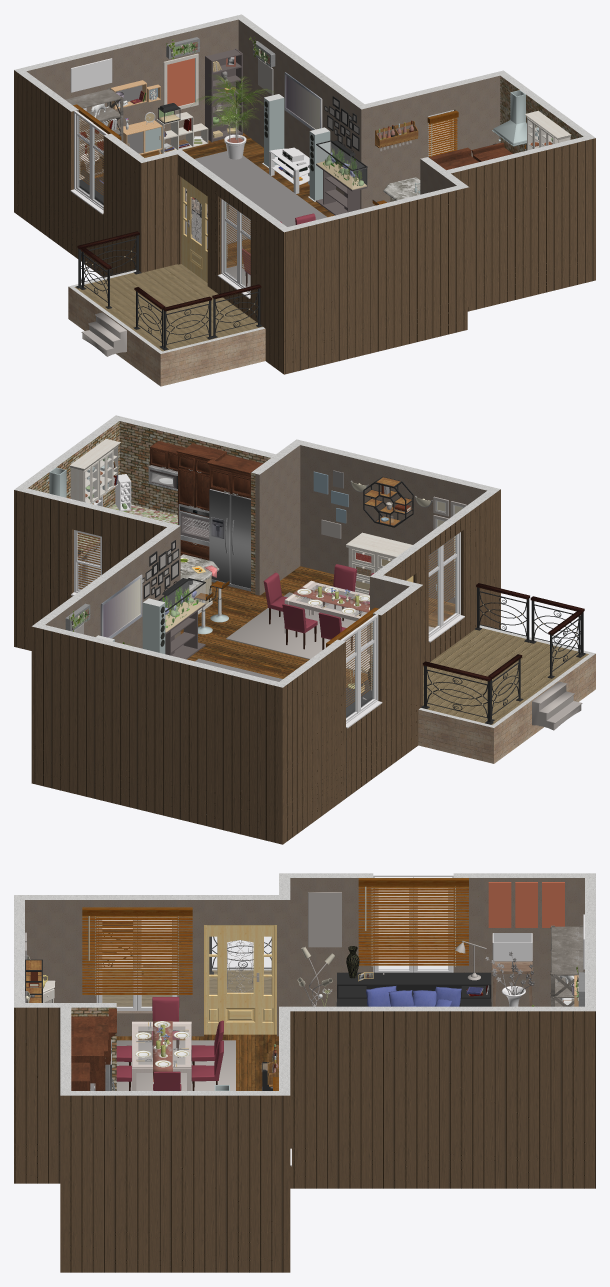
The model's file is living_room_dining_room_kitchen.glb.
3 views of the same model, one above another, from view 1: azimuth 30°, elevation 25°; view 2: azimuth 150°, elevation 25°; view 3: azimuth 270°, elevation 25° (orthographic). The views are drawn at different scales.
Visible parts, largest first — view 1: Object_63, Object_92, Object_62, Object_13, Object_95, Object_39, Object_48, Object_45, Object_36, Object_24, Object_41, Object_75 (+21 smaller); view 2: Object_63, Object_92, Object_13, Object_62, Object_39, Object_94, Object_48, Object_6, Object_95, Object_56, Object_26, Object_36 (+21 smaller); view 3: Object_63, Object_92, Object_75, Object_13, Object_76, Object_39, Object_48, Object_26, Object_36, Object_31, Object_102, Object_56 (+14 smaller).
Part boxes in pixels (x1=…): Object_63: x1=14, y1=70, x2=595, y2=374; Object_92: x1=26, y1=19, x2=500, y2=233; Object_62: x1=74, y1=264, x2=262, y2=351; Object_13: x1=14, y1=14, x2=595, y2=232; Object_95: x1=68, y1=287, x2=265, y2=386; Object_39: x1=78, y1=110, x2=552, y2=286; Object_48: x1=75, y1=92, x2=496, y2=350; Object_45: x1=85, y1=71, x2=326, y2=248; Object_36: x1=70, y1=58, x2=453, y2=298; Object_24: x1=78, y1=90, x2=538, y2=283; Object_41: x1=168, y1=39, x2=367, y2=215; Object_75: x1=73, y1=104, x2=525, y2=273; Object_63: x1=14, y1=489, x2=500, y2=844; Object_92: x1=45, y1=445, x2=486, y2=667; Object_13: x1=14, y1=415, x2=500, y2=687; Object_62: x1=421, y1=628, x2=588, y2=724; Object_39: x1=77, y1=453, x2=455, y2=718; Object_94: x1=180, y1=566, x2=455, y2=687; Object_48: x1=142, y1=476, x2=585, y2=724; Object_6: x1=28, y1=421, x2=270, y2=594; Object_95: x1=418, y1=654, x2=595, y2=763; Object_56: x1=150, y1=441, x2=263, y2=560; Object_26: x1=74, y1=502, x2=434, y2=672; Object_36: x1=71, y1=474, x2=464, y2=728; Object_63: x1=14, y1=1007, x2=595, y2=1272; Object_92: x1=25, y1=878, x2=584, y2=1036; Object_75: x1=82, y1=878, x2=468, y2=1090; Object_13: x1=14, y1=873, x2=595, y2=1095; Object_76: x1=204, y1=925, x2=373, y2=1034; Object_39: x1=102, y1=893, x2=447, y2=1088; Object_48: x1=25, y1=930, x2=573, y2=1090; Object_26: x1=30, y1=892, x2=341, y2=1090; Object_36: x1=96, y1=875, x2=563, y2=1166; Object_31: x1=488, y1=882, x2=564, y2=927; Object_102: x1=116, y1=997, x2=223, y2=1090; Object_56: x1=71, y1=1009, x2=116, y2=1090.
Size of the model in its own units: 11.75 by 3.5 by 10.43.
Materials: 100 (81 with a texture image).
